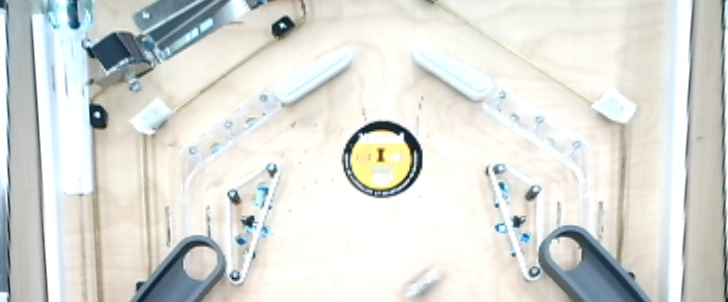ball: (395, 263, 448, 302)
flipper-left: (407, 41, 499, 105)
flipper-right: (269, 47, 356, 106)
